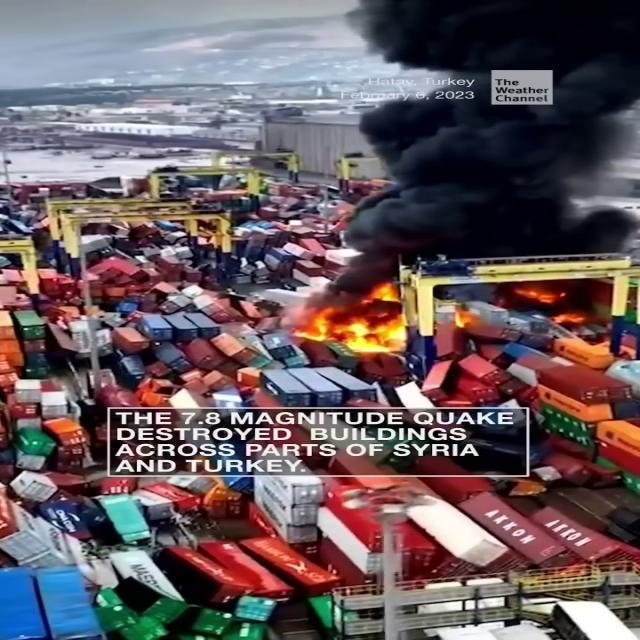Fire: (295, 285, 414, 355)
Smoke: (320, 0, 640, 284)
